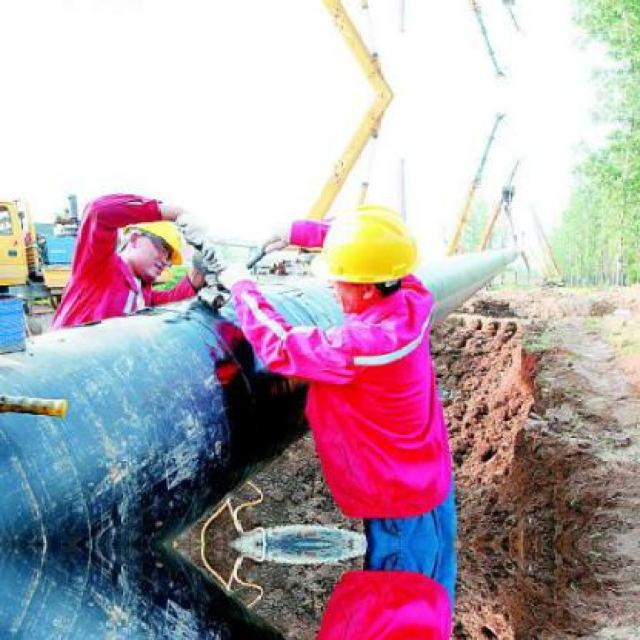helmet: (307, 194, 428, 316), (111, 217, 194, 284)
